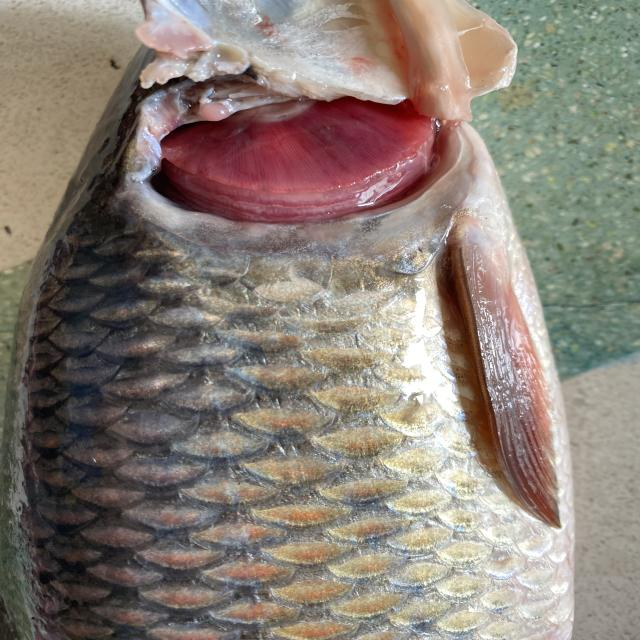Fresh: (106, 70, 496, 254)
